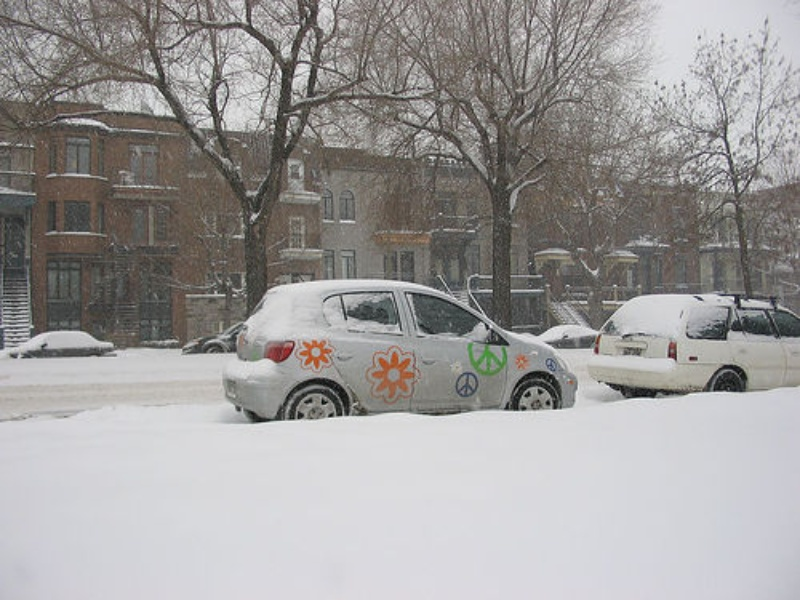car: (222, 277, 578, 422), (587, 291, 800, 399), (7, 331, 114, 358), (183, 322, 241, 354)
